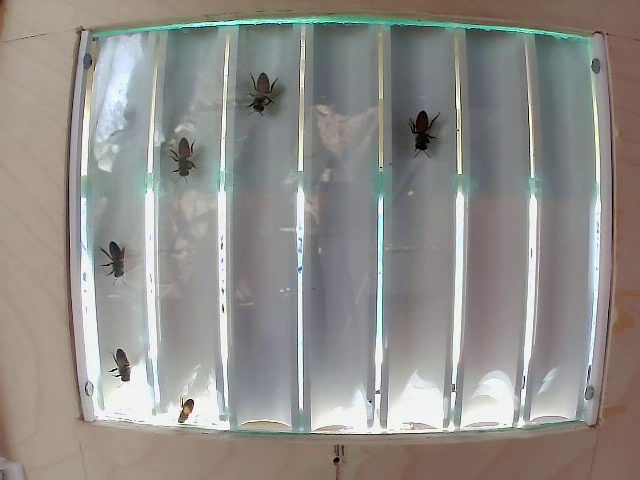bee: (161, 130, 209, 181), (99, 312, 136, 374), (402, 103, 440, 162), (90, 230, 133, 277), (248, 69, 281, 125), (156, 383, 207, 416)
